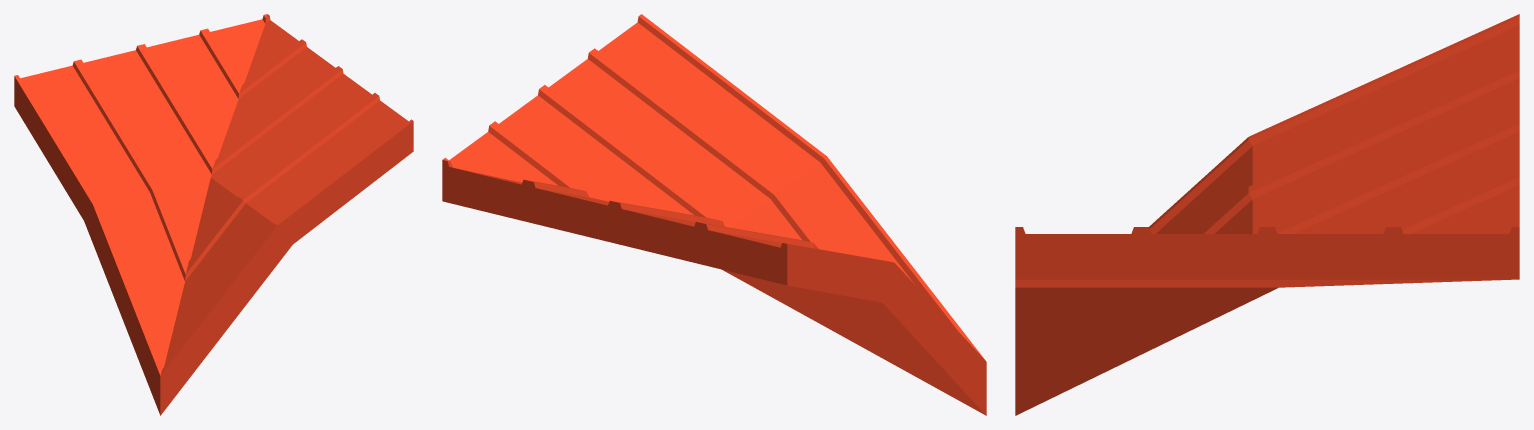
File: roof-metal-regular-moderate-2x2m-corner-b.fbx
3 views of the same model, side by side, from view 1: azimuth 30°, elevation 25°; view 2: azimuth 150°, elevation 25°; view 3: azimuth 270°, elevation 25° (orthographic). The views are drawn at different scales.
Parts seen in each view (by area): view 1: roof-metal-regular-moderate-2x2m-corner-b; view 2: roof-metal-regular-moderate-2x2m-corner-b; view 3: roof-metal-regular-moderate-2x2m-corner-b.
Part boxes in pixels (bbox=[...]): roof-metal-regular-moderate-2x2m-corner-b: bbox=[14, 14, 413, 415]; roof-metal-regular-moderate-2x2m-corner-b: bbox=[442, 14, 986, 415]; roof-metal-regular-moderate-2x2m-corner-b: bbox=[1015, 14, 1519, 415].
Size of the model in its own units: 2 by 1.76 by 2.
